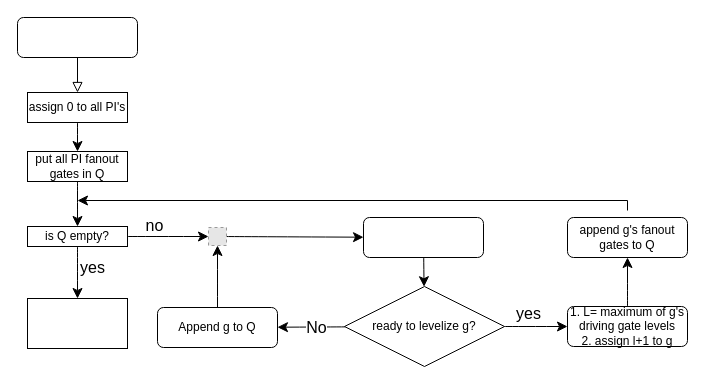
The diagram is 705 pixels wide and 384 high, and some of its shapes have lost their labels. Grey dashed boxes stand in for pictures. Each missing label, with the box of its shape:
End: (26, 298, 128, 348)
pop next gate g from Q: (362, 216, 484, 258)
Start: (16, 16, 138, 58)
